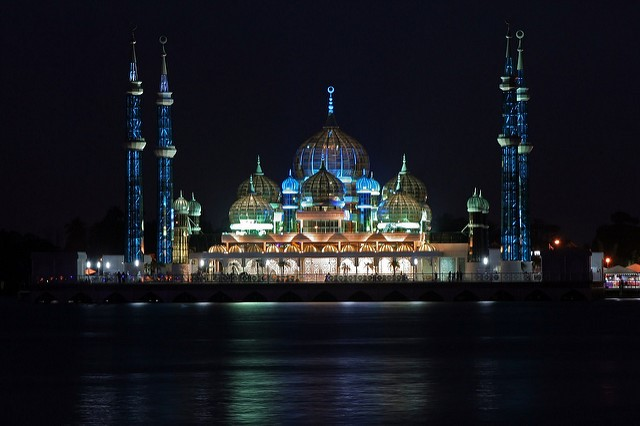Mosque: (105, 19, 543, 284)
